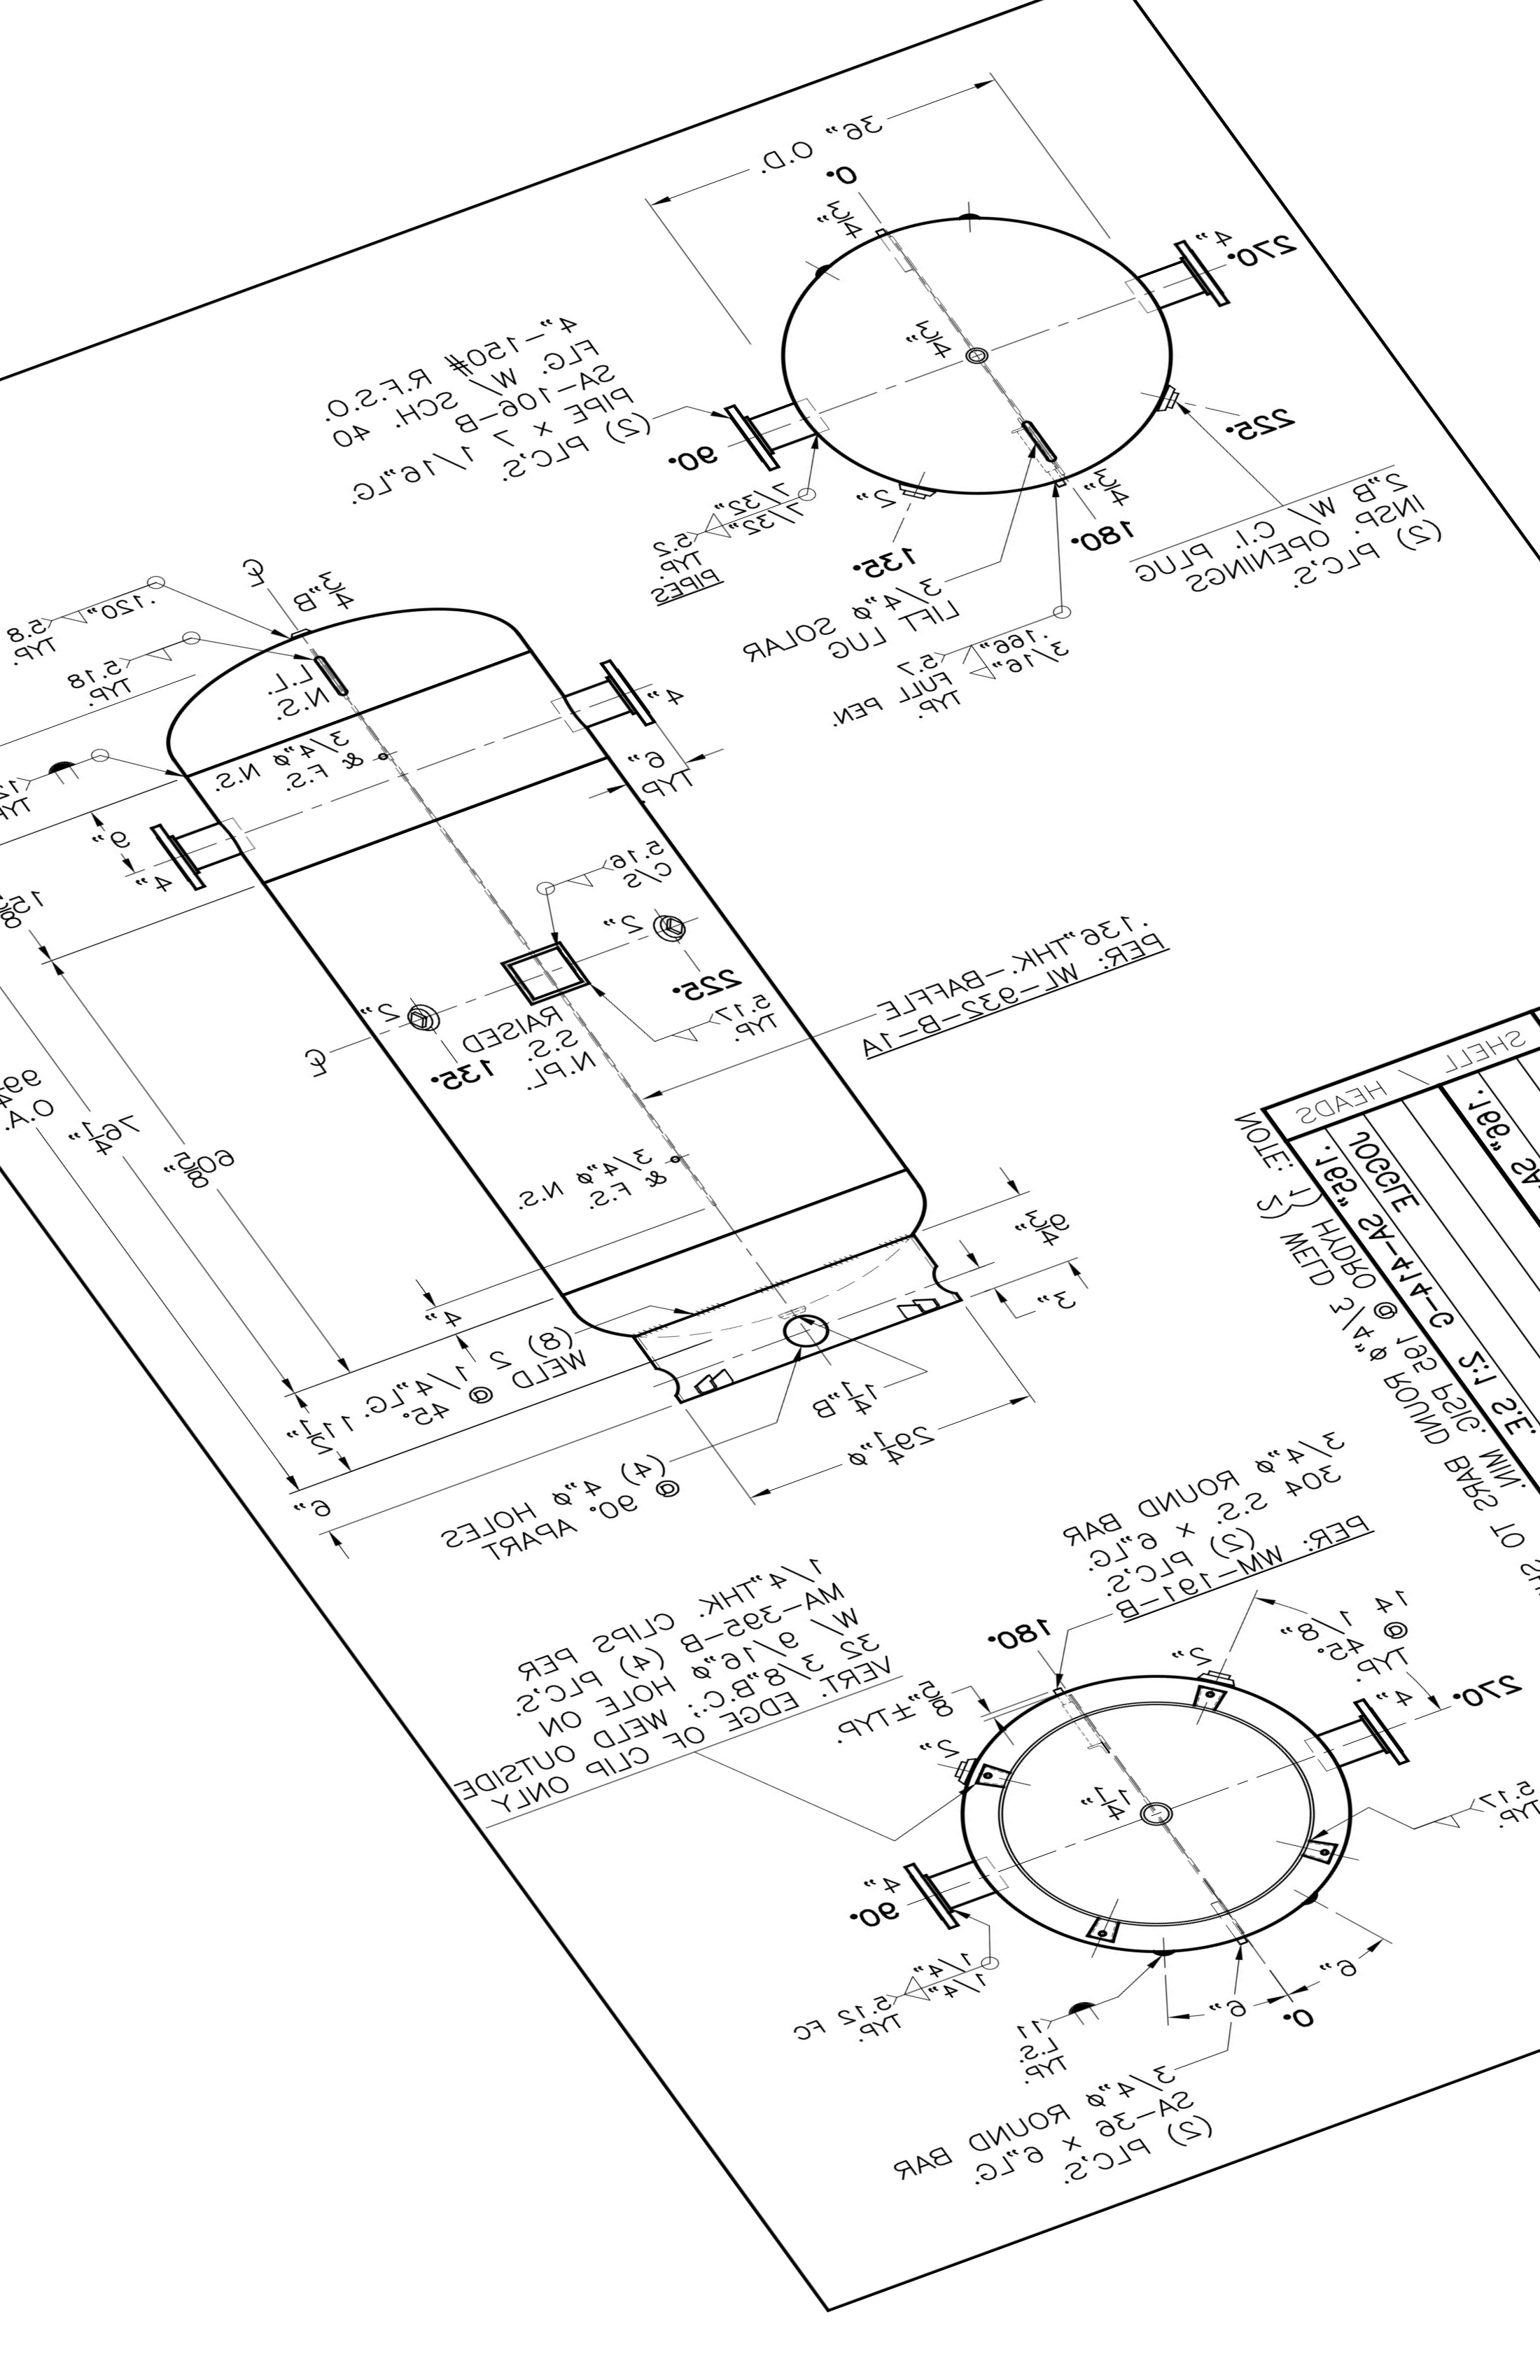Nozzle: (1082, 199, 1283, 356), (687, 349, 858, 498), (890, 1820, 1058, 1936), (109, 789, 253, 918), (534, 664, 709, 753), (1299, 1691, 1424, 1787)
